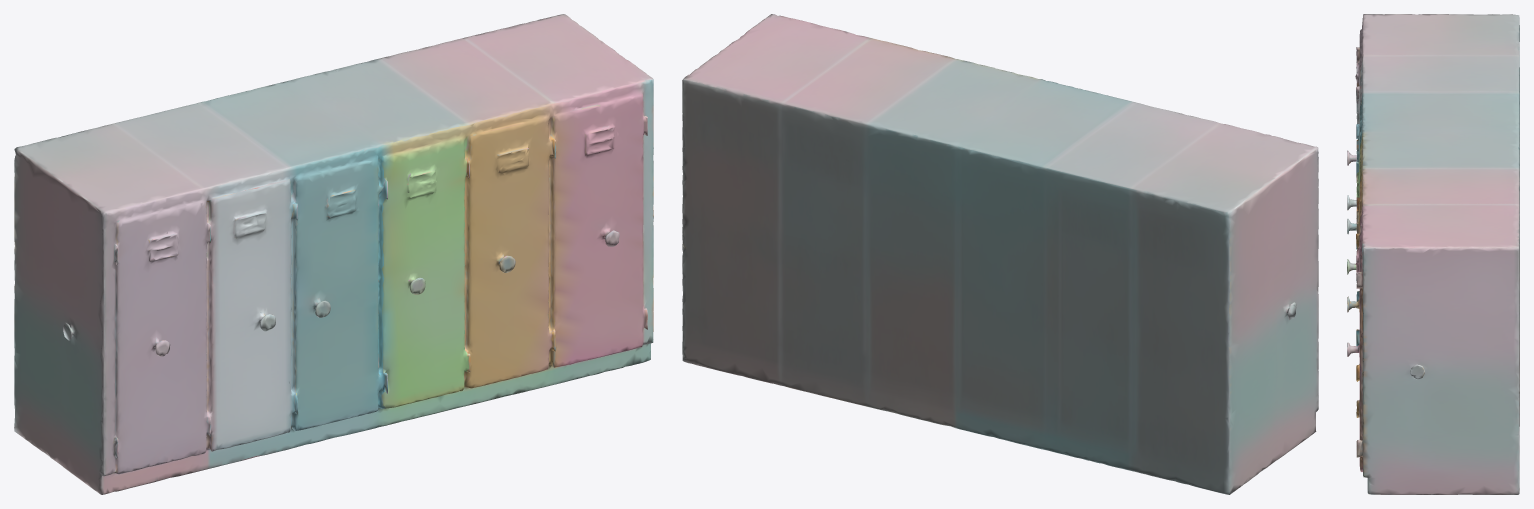
The model's file is locker_row.glb.
3 views of the same model, side by side, from view 1: azimuth 30°, elevation 25°; view 2: azimuth 150°, elevation 25°; view 3: azimuth 270°, elevation 25° (orthographic). The views are drawn at different scales.
Parts seen in each view (by area): view 1: model; view 2: model; view 3: model.
Boxes of the visible parts, left/top/right/bottom form: model: left=14, top=14, right=653, bottom=494; model: left=682, top=14, right=1318, bottom=494; model: left=1347, top=14, right=1519, bottom=494.
Size of the model in its own units: 1.9 by 0.9245 by 0.5827.
1 material, 1 textured.
